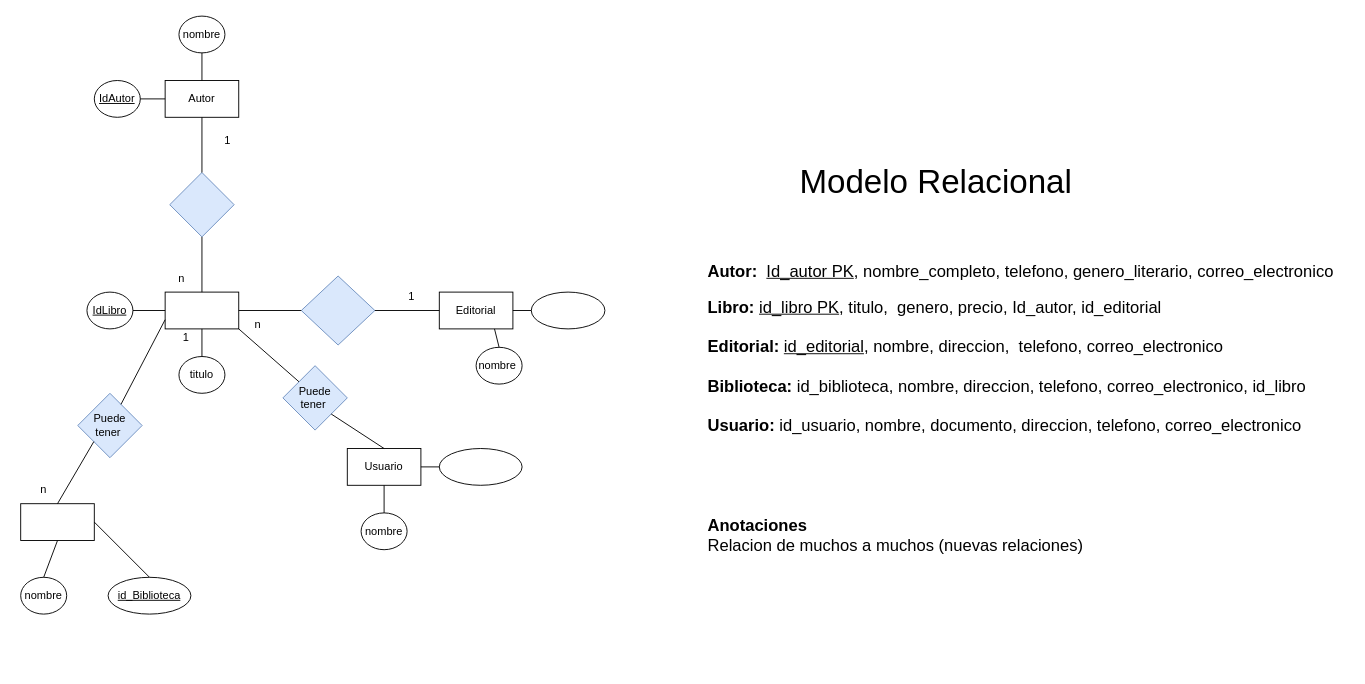
Some shapes in this 1365 by 684 pixel diagram are drawn without their labels. The shapes that lost their labels are listed below. From the top down, each one's centre as x and y in pixels, then its label:
At point (201, 204): "Puede escribir".
At point (201, 310): "Libro".
At point (337, 310): "Puede publicar".
At point (567, 310): "id_Editorial".
At point (480, 466): "id_usuario".
At point (57, 521): "Biblioteca".
